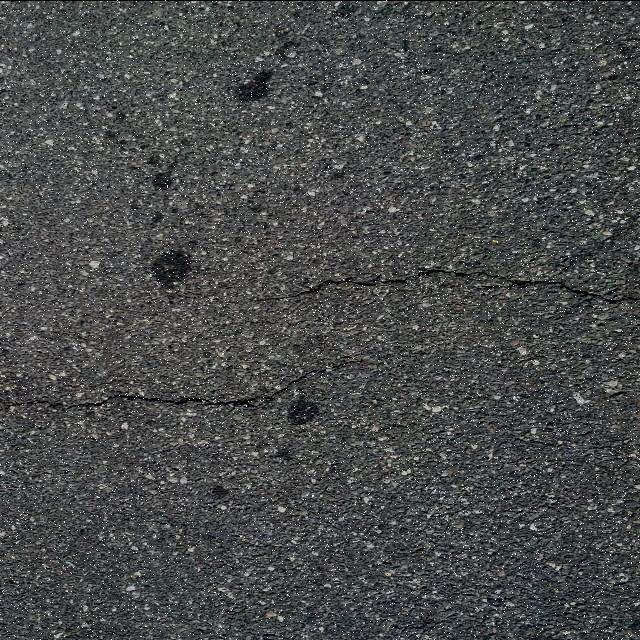Crack: (0, 357, 368, 413), (258, 265, 640, 305)
